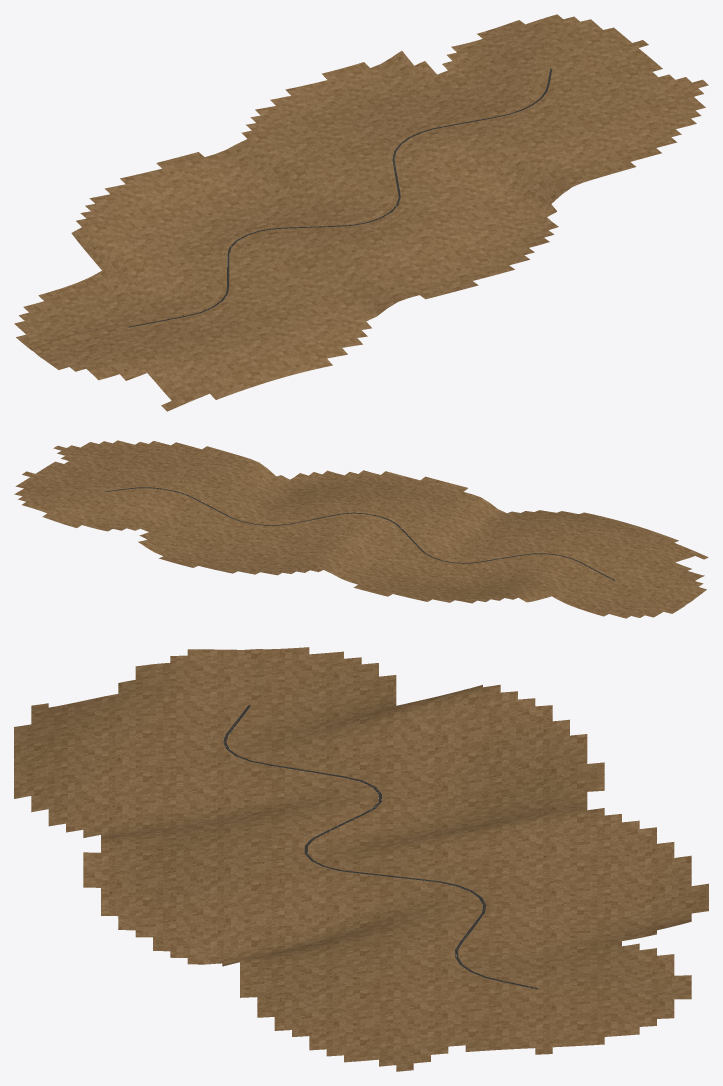
The picture shows the model from 3 angles, top to bottom: view 1: azimuth 30°, elevation 25°; view 2: azimuth 150°, elevation 25°; view 3: azimuth 270°, elevation 25°; orthographic projection. The views are drawn at different scales.
Parts seen in each view (by area): view 1: S05_TERRAIN_LOD2_WEB_EXPORT, S05_ROAD_ASPHALT_LOD2_WEB_EXPORT; view 2: S05_TERRAIN_LOD2_WEB_EXPORT, S05_ROAD_ASPHALT_LOD2_WEB_EXPORT; view 3: S05_TERRAIN_LOD2_WEB_EXPORT, S05_ROAD_ASPHALT_LOD2_WEB_EXPORT.
Part boxes in pixels (bbox=[...]): S05_TERRAIN_LOD2_WEB_EXPORT: bbox=[14, 14, 708, 411]; S05_ROAD_ASPHALT_LOD2_WEB_EXPORT: bbox=[128, 68, 552, 327]; S05_TERRAIN_LOD2_WEB_EXPORT: bbox=[14, 440, 708, 618]; S05_ROAD_ASPHALT_LOD2_WEB_EXPORT: bbox=[105, 487, 615, 580]; S05_TERRAIN_LOD2_WEB_EXPORT: bbox=[14, 647, 708, 1071]; S05_ROAD_ASPHALT_LOD2_WEB_EXPORT: bbox=[223, 705, 537, 989].
Bounding box in the file's own units: 2720 × 288 × 1600.
Materials: 6 (6 with a texture image).
